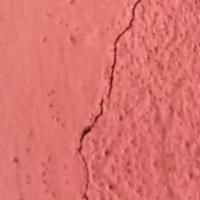crack: (71, 1, 139, 161)
